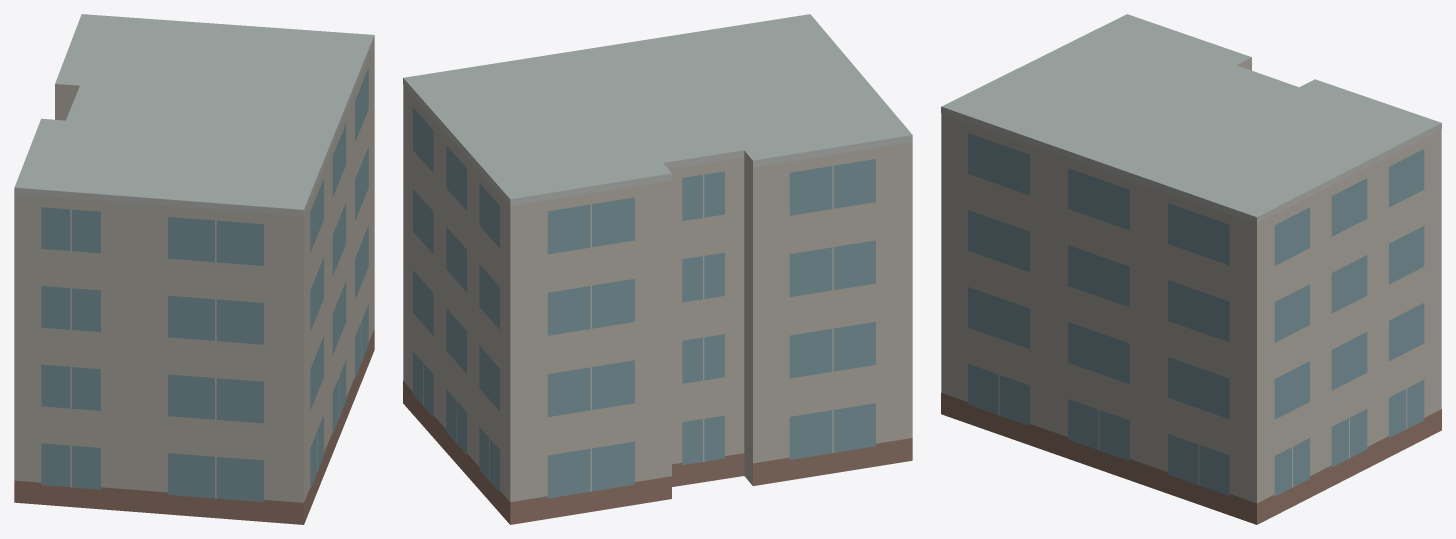
The model's file is survey-upis-33027021.glb.
The picture shows the model from 3 angles, left to right: view 1: azimuth 30°, elevation 25°; view 2: azimuth 150°, elevation 25°; view 3: azimuth 270°, elevation 25°; orthographic projection. The views are drawn at different scales.
Parts seen in each view (by area): view 1: survey-upis-33027021.tmp; view 2: survey-upis-33027021.tmp; view 3: survey-upis-33027021.tmp.
Part boxes in pixels (left/top/right/bottom): survey-upis-33027021.tmp: left=14, top=14, right=374, bottom=524; survey-upis-33027021.tmp: left=403, top=14, right=912, bottom=524; survey-upis-33027021.tmp: left=941, top=14, right=1441, bottom=524.
Size of the model in its own units: 16.16 by 11.4 by 16.82.
